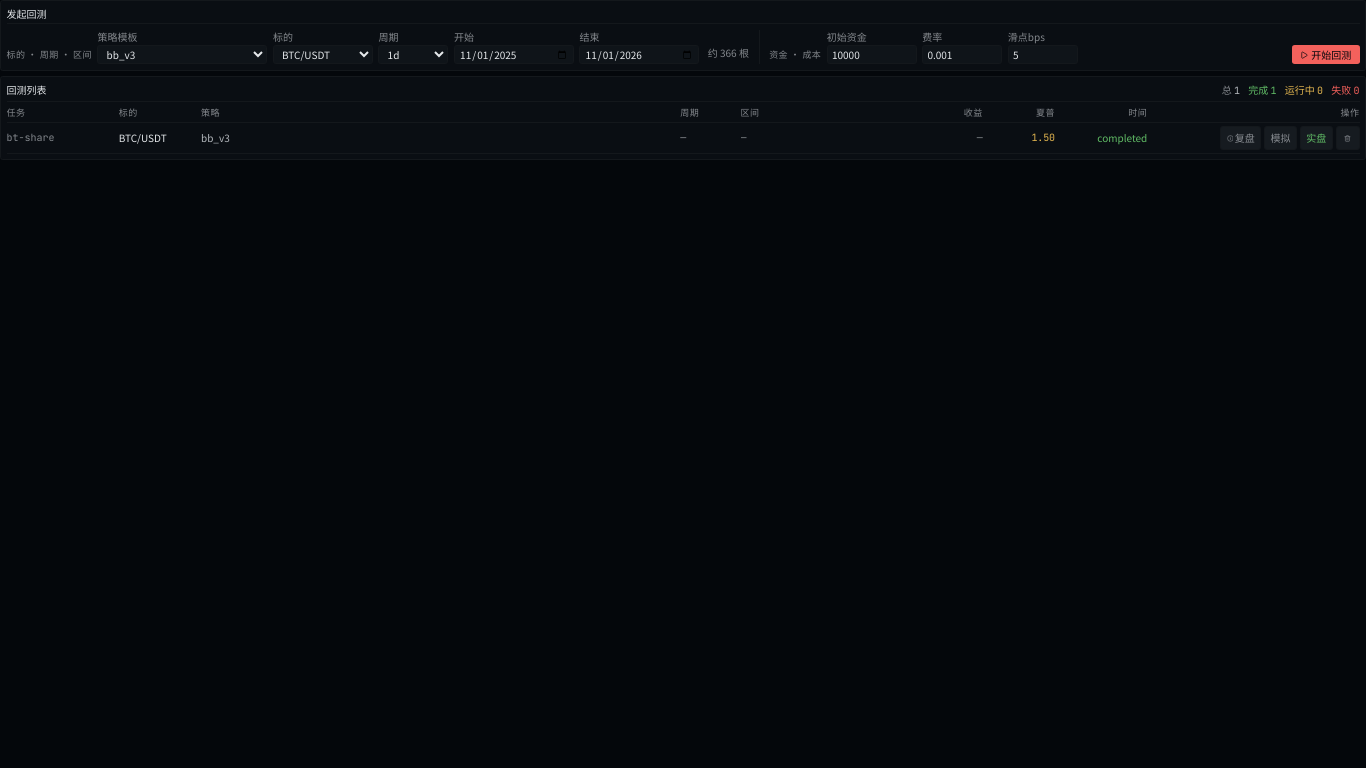
按此配置重跑(历史回填) › 点重跑按钮 → 关 Dialog + 清 URL + 表单回填 strategy/symbol/区间/资金
Click the button "复盘". click: (1241, 138)
box: [1220,126,1261,150]
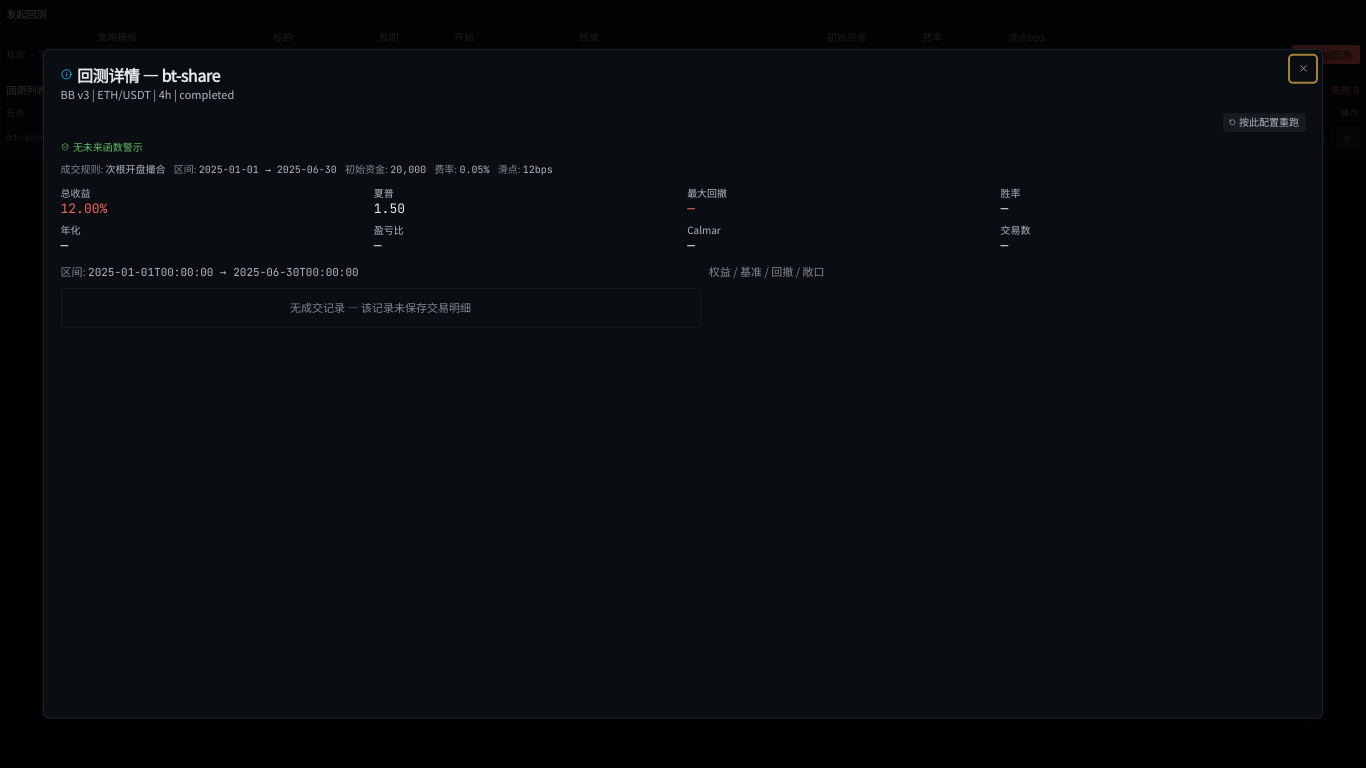
Click the button "按此配置重跑". click: (1264, 122)
box: [1223,113,1306,132]
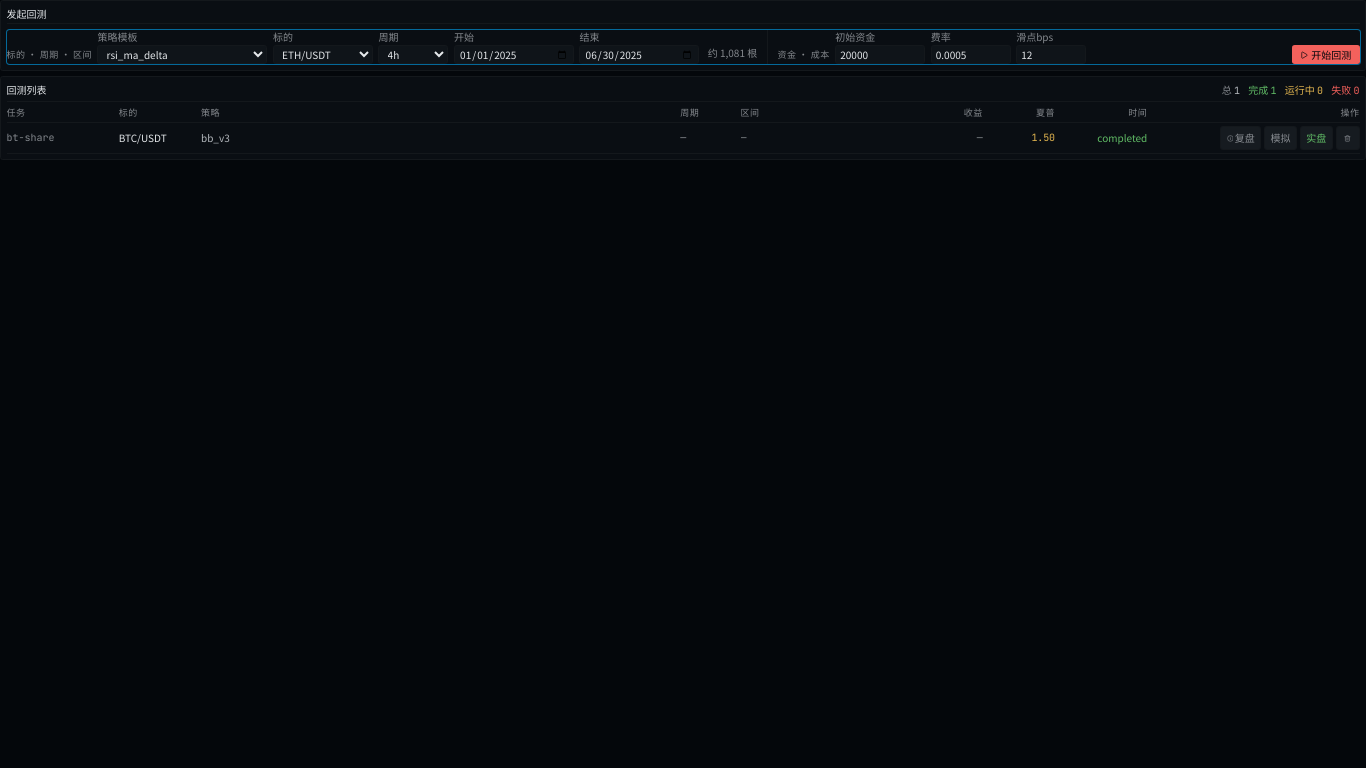
Check: the date field showing "2025-01-01" is shown, box [454,45,574,64]
Check: the date field showing "2025-06-30" is shown, box [580,45,700,64]
